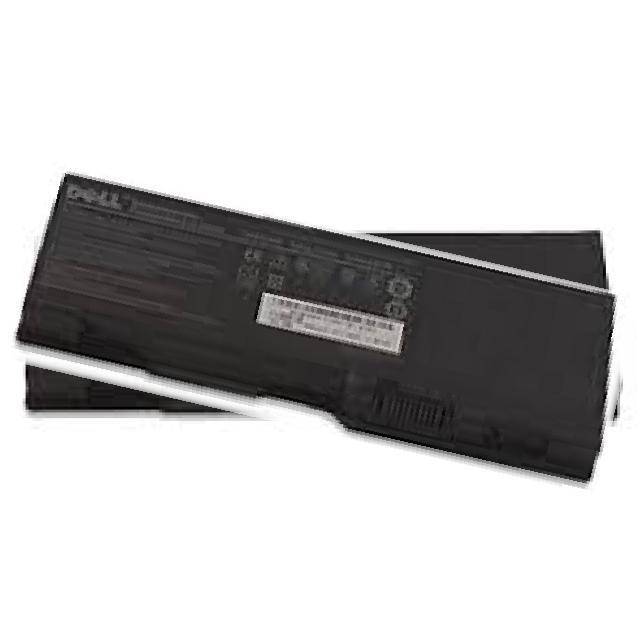Battery: (11, 146, 634, 555)
